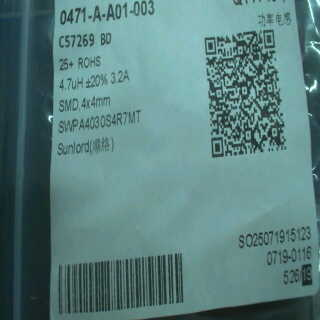4.7uH: (58, 72, 85, 96)
